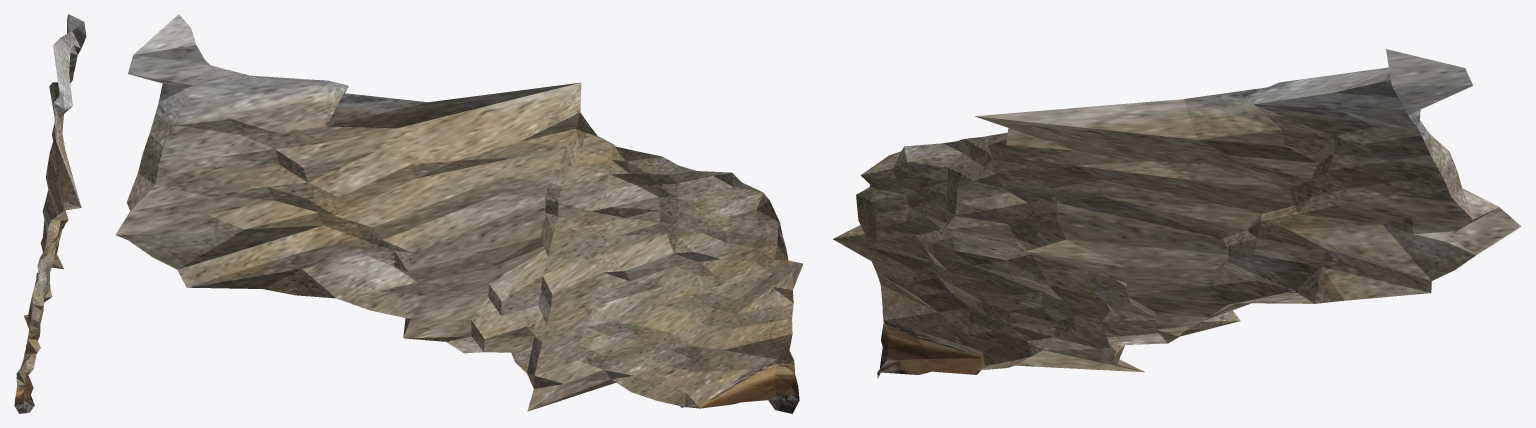
3 renders of one model, left to right at view 1: azimuth 30°, elevation 25°; view 2: azimuth 150°, elevation 25°; view 3: azimuth 270°, elevation 25°, orthographic. The views are drawn at different scales.
Size of the model in its own units: 314 by 380 by 467.
